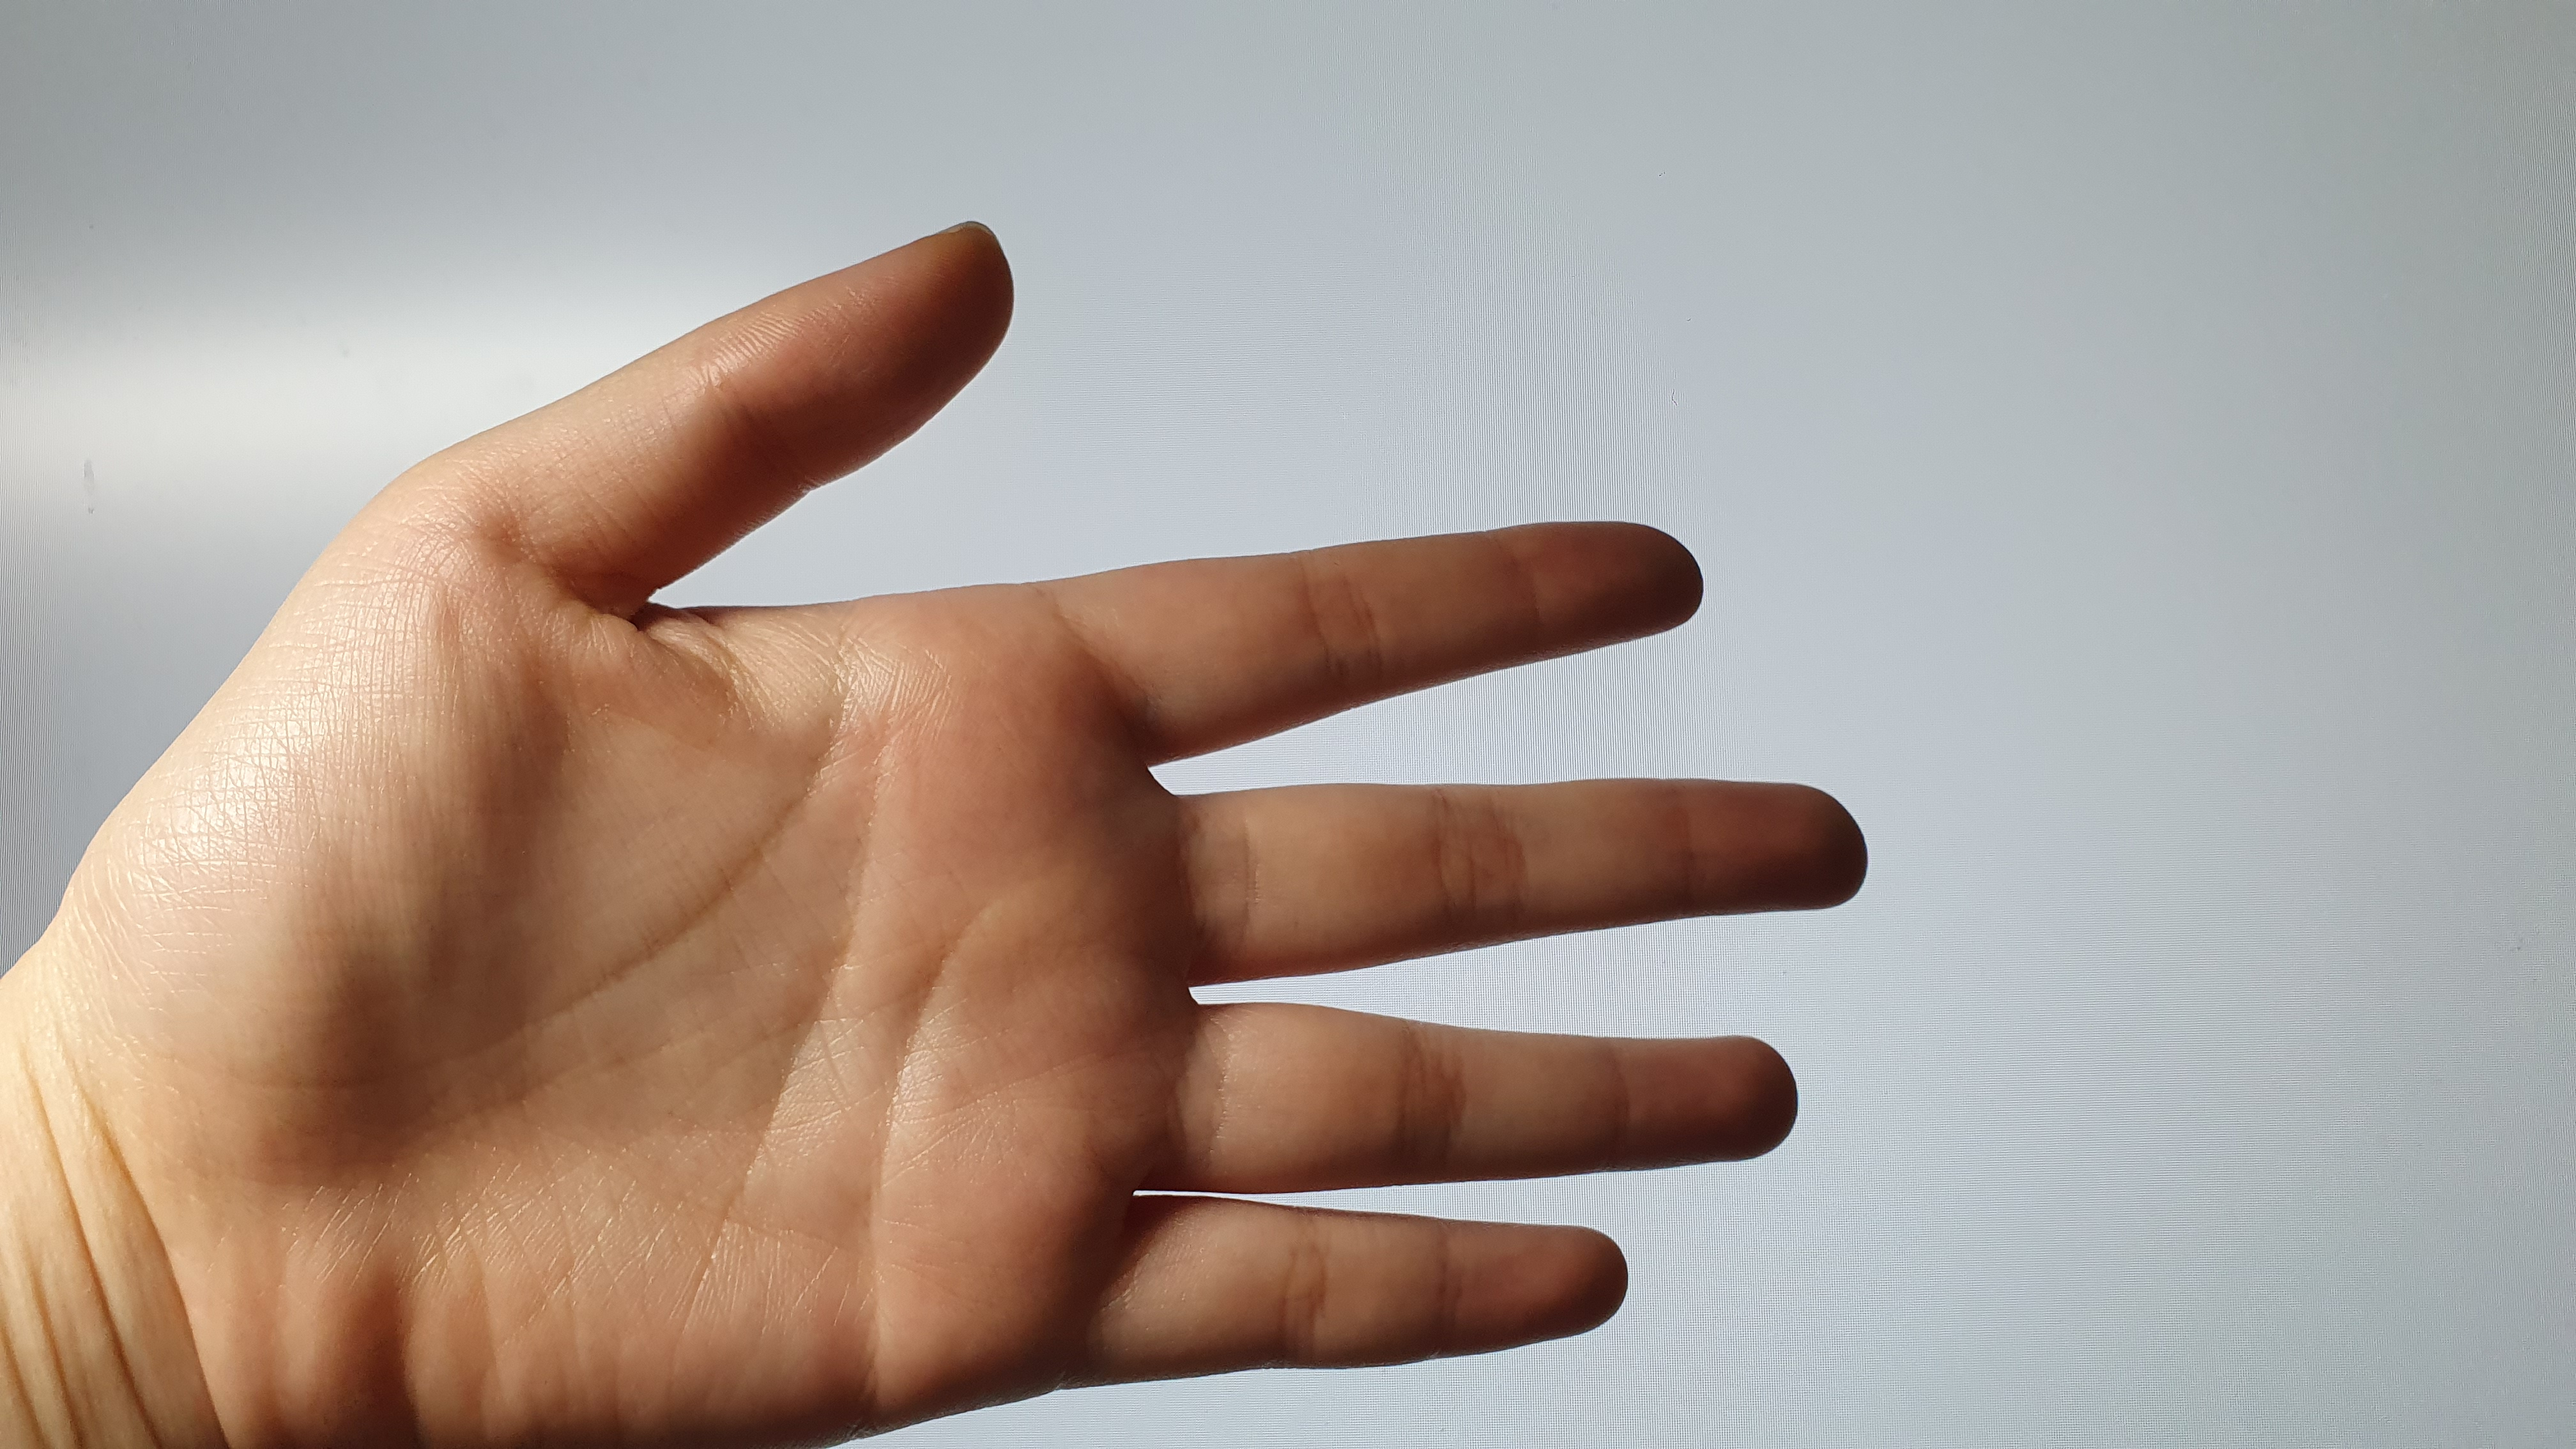hand: (161, 221, 1879, 1449)
index finger: (1037, 506, 1718, 754)
middle finger: (1177, 784, 1870, 991)
palm: (161, 577, 1164, 1398)
pinky: (1062, 1194, 1640, 1392)
ring finger: (1180, 991, 1812, 1185)
thumb: (402, 209, 1021, 616)
